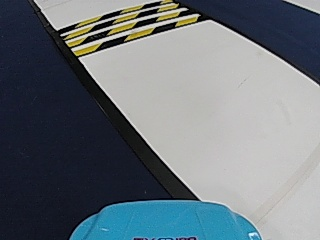bump: (66, 5, 177, 57)
